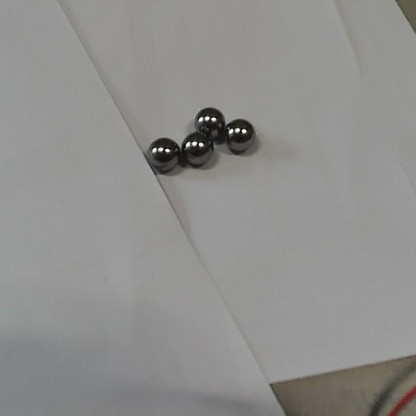ironball: (178, 126, 217, 170), (143, 131, 180, 177), (219, 115, 256, 155), (192, 103, 225, 141)
